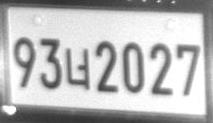0: (122, 41, 144, 93)
2: (149, 42, 173, 94), (95, 40, 118, 93)
3: (40, 38, 62, 89)
7: (176, 43, 200, 96)
9: (13, 36, 36, 87)
너: (65, 48, 89, 90)
